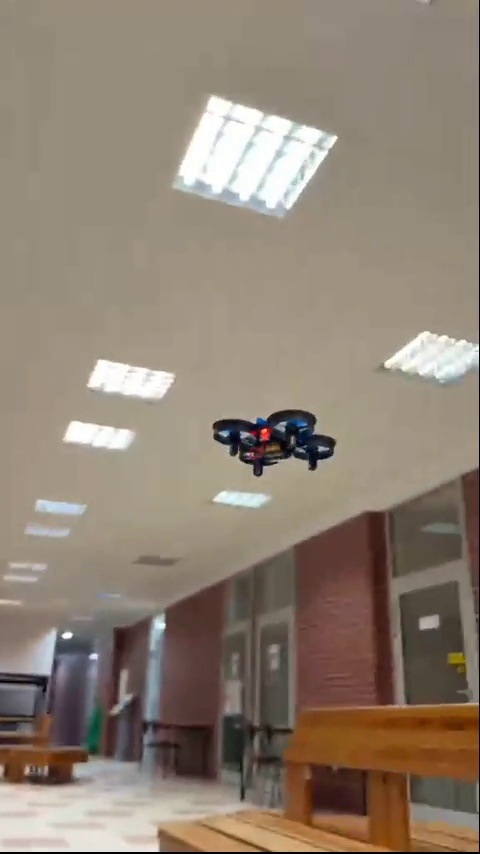drone: (207, 404, 337, 476)
